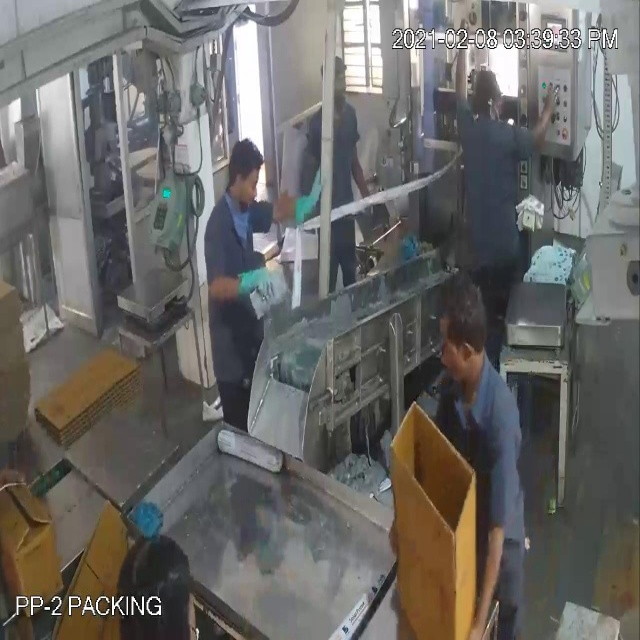Guantes: (266, 153, 326, 229), (206, 253, 279, 310)
Sin_guantes: (451, 480, 510, 640)
